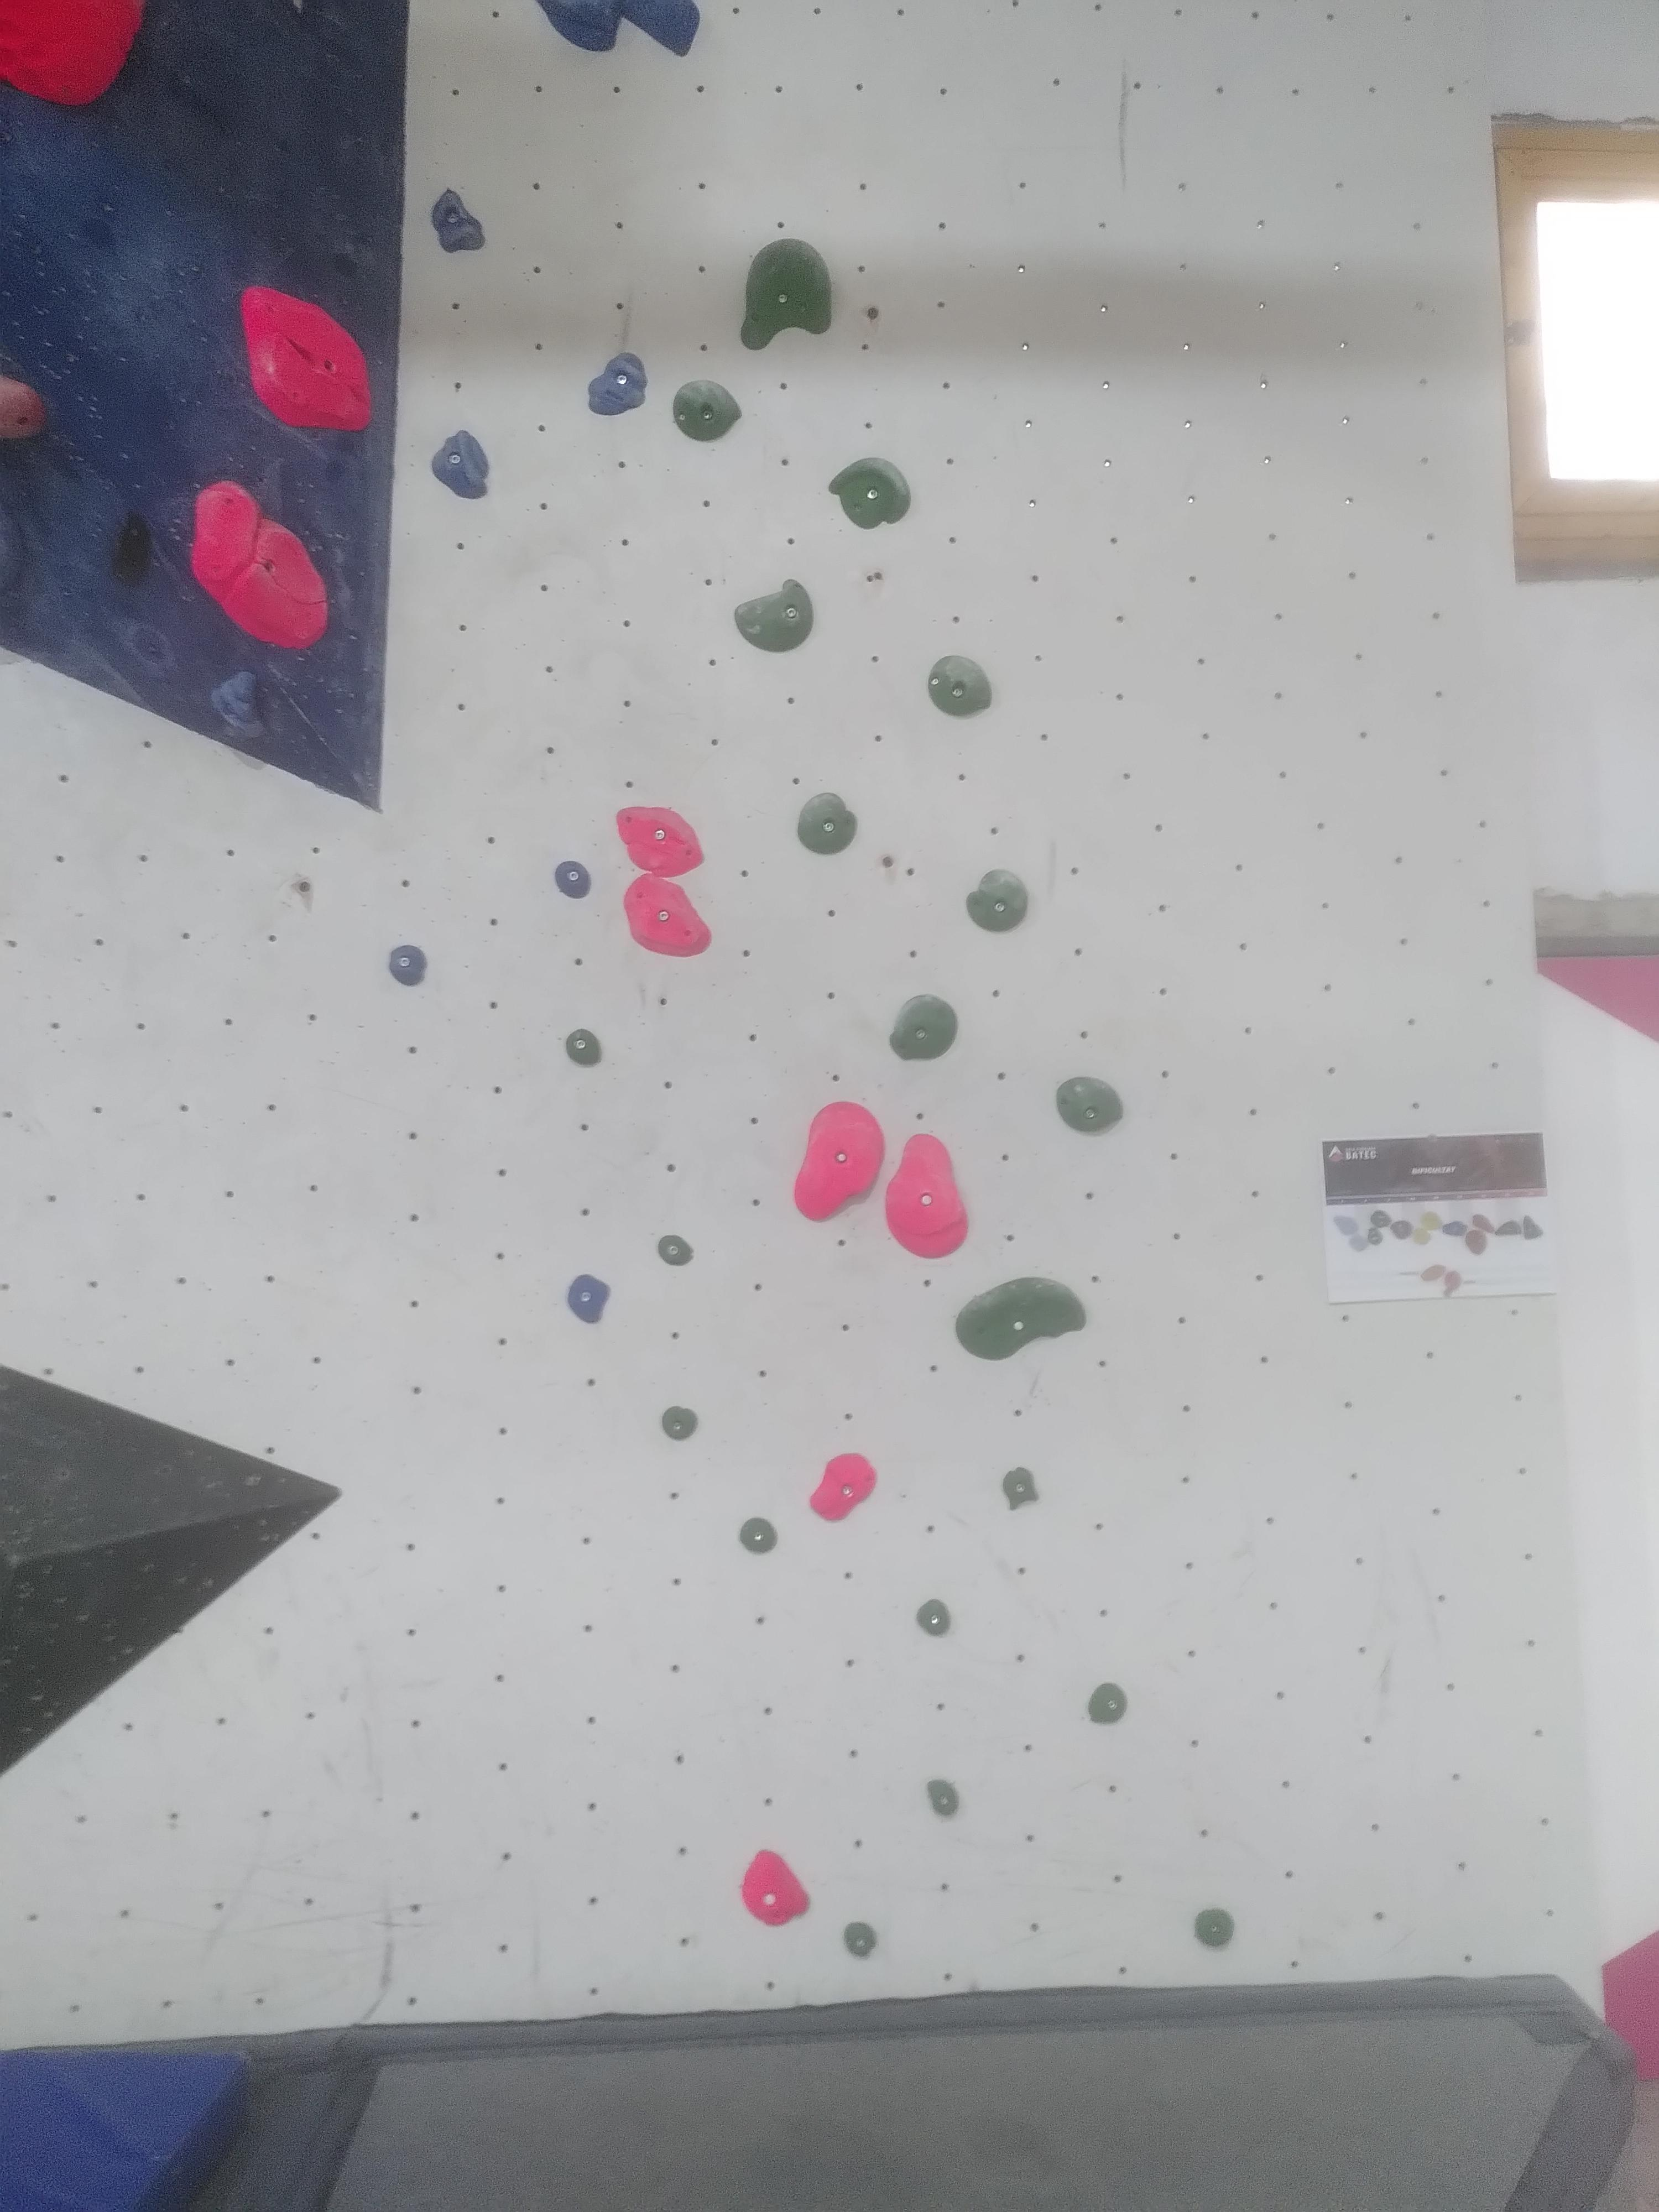hold: (190, 480, 328, 650), (240, 285, 372, 431), (0, 0, 146, 106), (956, 1277, 1086, 1362), (795, 1101, 886, 1220), (886, 1133, 968, 1258), (740, 238, 832, 351), (536, 0, 700, 57), (623, 873, 712, 957), (615, 806, 704, 878), (828, 457, 911, 529), (734, 579, 814, 653), (743, 1850, 810, 1927), (810, 1452, 877, 1522), (890, 995, 957, 1061), (672, 380, 742, 442), (431, 429, 489, 499), (966, 869, 1029, 932), (928, 655, 992, 717), (1056, 1076, 1124, 1133), (589, 351, 648, 415), (798, 792, 857, 855), (211, 672, 265, 738), (431, 187, 486, 253), (109, 509, 153, 586), (0, 374, 45, 439), (0, 496, 25, 603), (568, 1274, 611, 1324), (1194, 1908, 1235, 1948), (1003, 1467, 1040, 1510), (1088, 1683, 1128, 1722), (389, 945, 426, 985), (915, 1598, 951, 1637), (740, 1517, 777, 1553), (555, 860, 589, 898), (662, 1406, 698, 1439), (566, 1029, 599, 1065), (843, 1921, 878, 1956), (927, 1779, 959, 1817), (658, 1235, 695, 1266)
volume: (0, 1364, 342, 1777)
